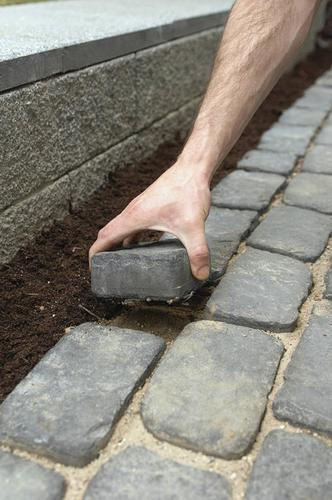no-phone: (83, 156, 224, 305)
